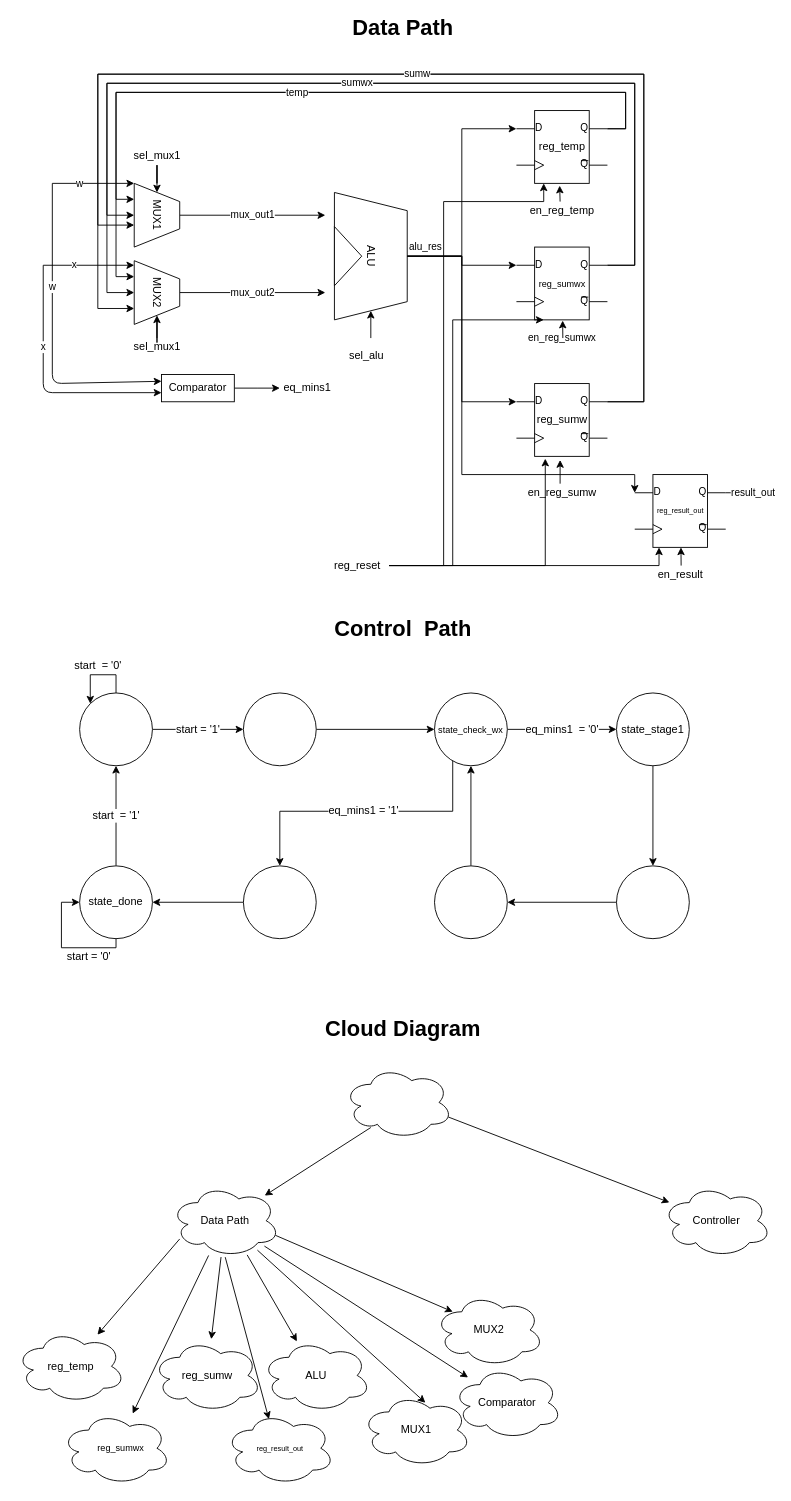
This 791x1501 diagram has some shape labels left out. Here are the shapes that lost their labels. From the top down, the box of each, then its label:
(79, 692, 152, 766): state_idle
(243, 692, 316, 766): state_reg_wx
(243, 865, 316, 939): state_reg_out
(434, 865, 507, 939): state_stage3
(616, 865, 689, 939): state_stage2
(343, 1065, 453, 1139): Final Plan
